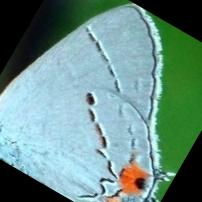butterfly: (0, 5, 175, 202)
